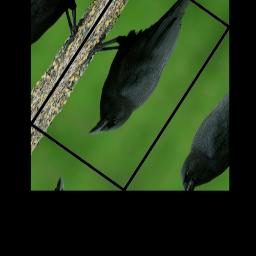Crow: (51, 0, 205, 153)
